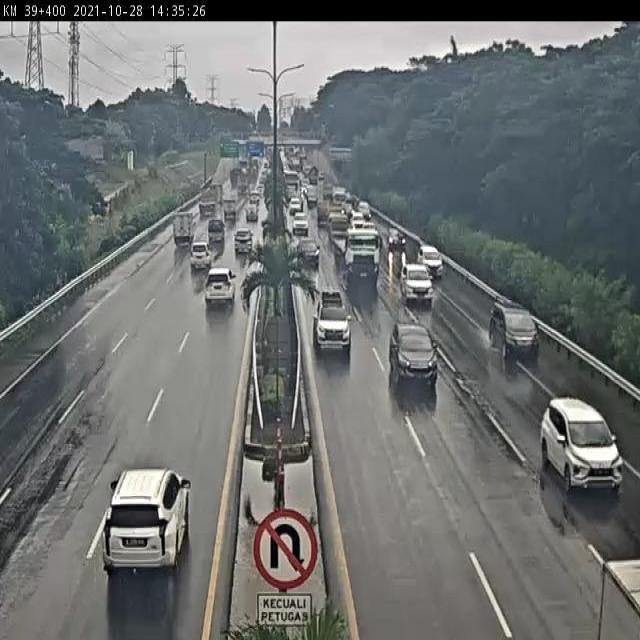big truck: (330, 223, 378, 281)
car: (82, 461, 200, 592), (532, 384, 631, 504), (384, 317, 443, 393), (484, 297, 544, 364), (311, 290, 351, 350), (395, 260, 434, 308), (200, 266, 237, 314), (417, 243, 447, 281), (293, 228, 320, 267), (187, 240, 213, 277), (232, 228, 254, 263)
small truck: (596, 550, 640, 640), (169, 208, 195, 249)
